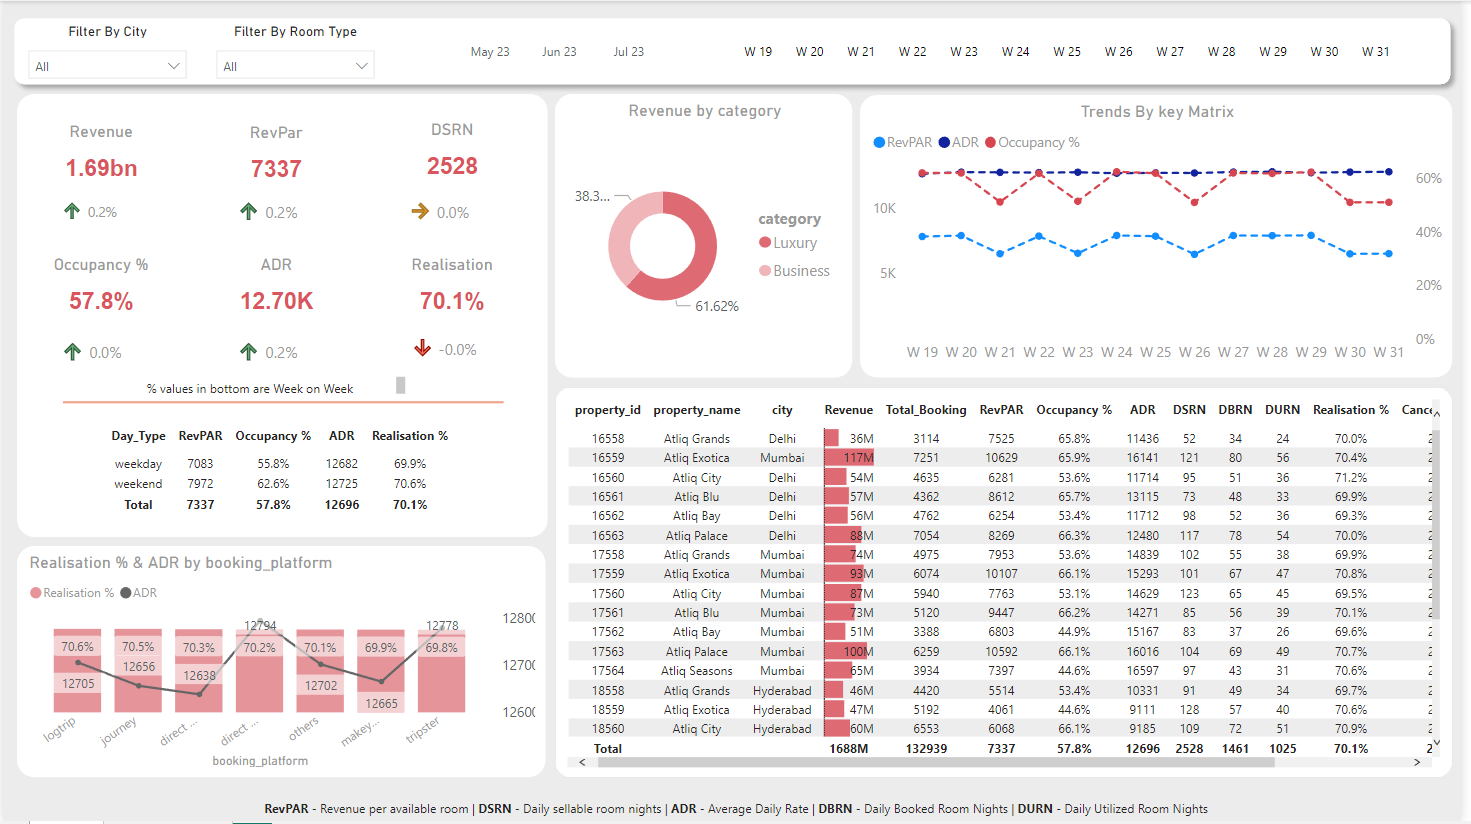

This screenshot's page, from the dashboard's own definition file:
{"tool":"powerbi","page":{"name":"Home","canvas":[1280,720],"ordinal":0},"visuals":[{"type":"shape","box":[0.9,6.2,1279.1,76],"z":0,"group":"g1"},{"type":"tableEx","fields":{"Values":["dim_hotels.property_id","dim_hotels.property_name","dim_hotels.city","Key_Measures.Revenue","Key_Measures.Total_Booking","Key_Measures.RevPAR","Key_Measures.Occupancy %","Key_Measures.ADR","Key_Measures.DSRN","Key_Measures.DBRN","Key_Measures.DURN","Key_Measures.Realisation %"]},"box":[485,339.2,788,342.7],"z":0},{"type":"slicer","title":"Filter By City","fields":{"Values":["dim_hotels.city"]},"box":[12.7,19,159.2,49.4],"z":1000,"group":"g1"},{"type":"shape","box":[12.2,81.6,465.8,389.1],"z":1000},{"type":"slicer","title":"Filter By Room Type","fields":{"Values":["dim_rooms.room_class"]},"box":[177.7,19,159.2,49.4],"z":2000,"group":"g1"},{"type":"tableEx","fields":{"Values":["Key_Measures.Revenue_WoW_change %"]},"box":[42.3,148.8,91.7,61.3],"z":2000},{"type":"slicer","title":"Filter By Room Type","fields":{"Values":["dim_date.mmm yy"]},"box":[372.3,19,230.9,49.4],"z":3000,"group":"g1"},{"type":"donutChart","fields":{"Category":["dim_hotels.category"],"Y":["Key_Measures.Revenue"]},"box":[485,81.3,261.5,249.1],"z":3000},{"type":"slicer","title":"Filter By Room Type","fields":{"Values":["dim_date.week no"]},"box":[615.9,19,635.6,49.4],"z":4000,"group":"g1"},{"type":"card","title":"Revenue","fields":{"Values":["Key_Measures.Revenue"]},"box":[14.6,106.7,142.7,66.7],"z":4000},{"type":"lineChart","title":"Trends By key Matrix","fields":{"Category":["dim_date.mmm yy.Variation.Date Hierarchy.Month","dim_date.week no"],"Y":["Key_Measures.RevPAR","Key_Measures.ADR"],"Y2":["Key_Measures.Occupancy %"]},"box":[752.6,82.2,520.3,248.2],"z":5000},{"type":"tableEx","fields":{"Values":["Key_Measures.Revpar_WoW_change %"]},"box":[196.3,148.8,91.7,61.5],"z":6000},{"type":"lineStackedColumnComboChart","title":"Realisation % & ADR by booking_platform","fields":{"Category":["fact-bookings.booking_platform"],"Y":["Key_Measures.Realisation %"],"Y2":["Key_Measures.ADR"]},"box":[12.2,478.5,463.5,203],"z":7000},{"type":"card","title":"RevPar","fields":{"Values":["Key_Measures.RevPAR"]},"box":[168.7,107.1,142.5,66.7],"z":8000},{"type":"group","id":"g1","title":"Filters","box":[0.9,6.2,1279.1,76],"z":9000},{"type":"tableEx","fields":{"Values":["Key_Measures.DSRN_WoW_change %"]},"box":[348,148.8,91.7,61.3],"z":10000},{"type":"card","title":"DSRN","fields":{"Values":["Key_Measures.DSRN"]},"box":[322.7,104.8,142.5,66.7],"z":11000},{"type":"tableEx","fields":{"Values":["Key_Measures.Occupancy_WoW_change %"]},"box":[42.3,269.1,91.7,61.3],"z":12000},{"type":"card","title":"Occupancy %","fields":{"Values":["Key_Measures.Occupancy %"]},"box":[14.7,222.8,142.5,66.7],"z":13000},{"type":"tableEx","fields":{"Values":["Key_Measures.ADR_WoW_change %"]},"box":[196.3,269.1,91.7,61.3],"z":14000},{"type":"card","title":"ADR","fields":{"Values":["Key_Measures.ADR"]},"box":[168.7,222.8,142.7,66.7],"z":15000},{"type":"tableEx","fields":{"Values":["Key_Measures.Realisation_WoW_change %"]},"box":[349.2,269.1,91.7,61.3],"z":16000},{"type":"card","title":"Realisation","fields":{"Values":["Key_Measures.Realisation %"]},"box":[322.7,222.8,142.5,67.1],"z":17000},{"type":"textbox","box":[210.7,693.3,863.1,26.7],"z":18000},{"type":"textbox","box":[121.6,324.9,237.3,29.2],"z":18001},{"type":"shape","box":[52.5,206.2,387.1,291.8],"z":18002},{"type":"tableEx","fields":{"Values":["dim_date.day_type","Key_Measures.RevPAR","Key_Measures.Occupancy %","Key_Measures.ADR","Key_Measures.Realisation %"]},"box":[83.4,367,321.4,96.6],"z":18003}]}

Visuals, with their boxes in screenshot pixels (x1, y1, x2, y2), scaled from the page's 1280x720 canvas onto the 1471x824 screenshot:
shape: rect(1, 7, 1470, 94)
tableEx - dim_hotels.property_id x dim_hotels.property_name: rect(557, 388, 1463, 780)
"Filter By City" slicer: rect(15, 22, 198, 78)
shape: rect(14, 93, 549, 539)
"Filter By Room Type" slicer: rect(204, 22, 387, 78)
tableEx - Key_Measures.Revenue_WoW_change %: rect(49, 170, 154, 240)
"Filter By Room Type" slicer: rect(428, 22, 693, 78)
donutChart - dim_hotels.category x Key_Measures.Revenue: rect(557, 93, 858, 378)
"Filter By Room Type" slicer: rect(708, 22, 1438, 78)
"Revenue" card: rect(17, 122, 181, 198)
"Trends By key Matrix" lineChart: rect(865, 94, 1463, 378)
tableEx - Key_Measures.Revpar_WoW_change %: rect(226, 170, 331, 241)
"Realisation % & ADR by booking_platform" lineStackedColumnComboChart: rect(14, 548, 547, 780)
"RevPar" card: rect(194, 123, 358, 199)
"Filters" group: rect(1, 7, 1470, 94)
tableEx - Key_Measures.DSRN_WoW_change %: rect(400, 170, 505, 240)
"DSRN" card: rect(371, 120, 535, 196)
tableEx - Key_Measures.Occupancy_WoW_change %: rect(49, 308, 154, 378)
"Occupancy %" card: rect(17, 255, 181, 331)
tableEx - Key_Measures.ADR_WoW_change %: rect(226, 308, 331, 378)
"ADR" card: rect(194, 255, 358, 331)
tableEx - Key_Measures.Realisation_WoW_change %: rect(401, 308, 507, 378)
"Realisation" card: rect(371, 255, 535, 332)
textbox: rect(242, 793, 1234, 823)
textbox: rect(140, 372, 412, 405)
shape: rect(60, 236, 505, 570)
tableEx - dim_date.day_type x Key_Measures.RevPAR: rect(96, 420, 465, 531)
